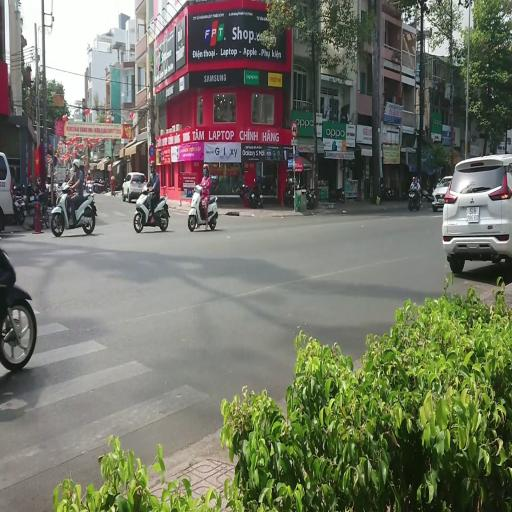bikes: (0, 247, 37, 372), (50, 183, 97, 237), (12, 174, 50, 228), (133, 185, 170, 232), (187, 182, 218, 231), (283, 177, 315, 209), (32, 175, 50, 228), (11, 182, 27, 224), (244, 179, 263, 208), (283, 178, 299, 206), (408, 185, 421, 211), (380, 183, 394, 201), (330, 187, 345, 203), (93, 177, 108, 193), (421, 188, 433, 208), (306, 188, 316, 208), (85, 180, 94, 193)
helmet: (202, 164, 208, 176), (73, 159, 80, 169), (149, 160, 155, 171), (36, 174, 41, 184), (412, 176, 416, 181), (111, 176, 114, 180), (416, 176, 418, 182), (88, 170, 90, 175)
